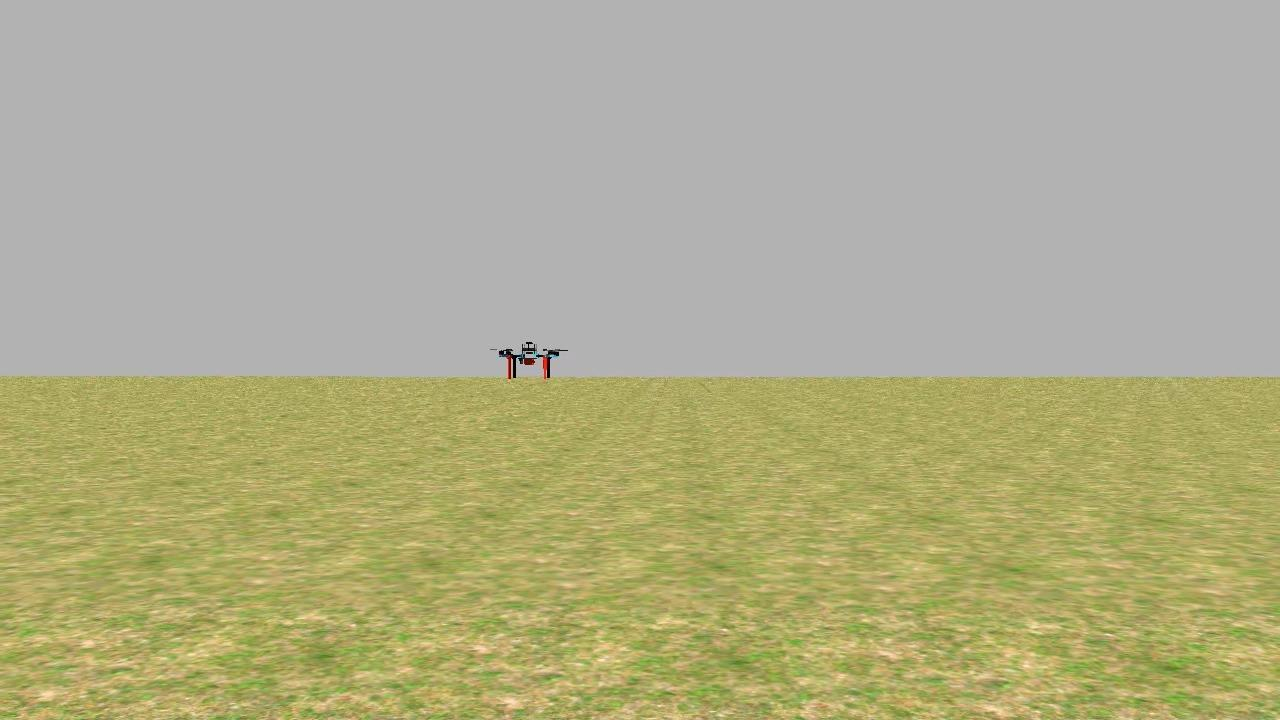UAV: (496, 339, 572, 387)
